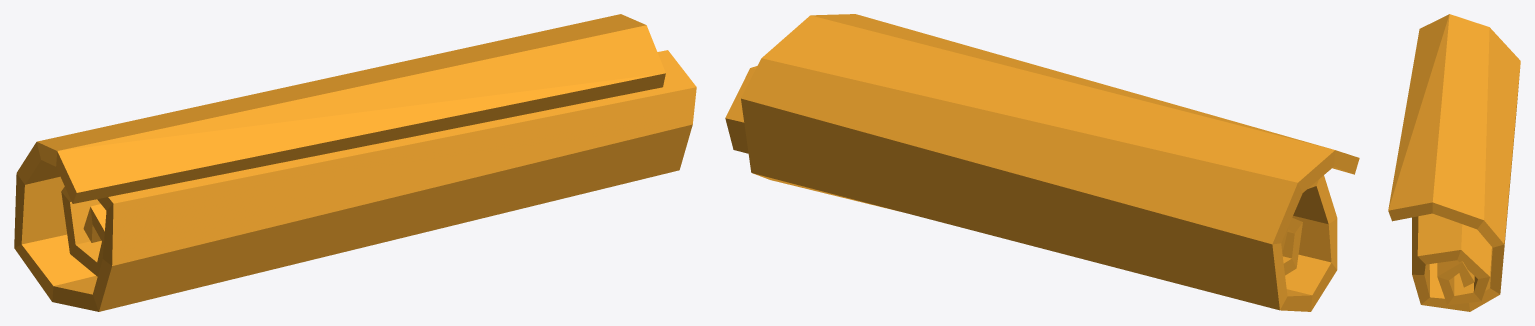
File: SM_Scroll_Sigle.fbx
3 renders of one model, left to right at view 1: azimuth 30°, elevation 25°; view 2: azimuth 150°, elevation 25°; view 3: azimuth 270°, elevation 25°, orthographic. The views are drawn at different scales.
Parts seen in each view (by area): view 1: scroll-sigle; view 2: scroll-sigle; view 3: scroll-sigle.
Part boxes in pixels (x1,y1,x2,y2): scroll-sigle: (14, 14, 696, 311); scroll-sigle: (725, 14, 1359, 311); scroll-sigle: (1388, 14, 1520, 311).
Size of the model in its own units: 0.2746 by 0.0688 by 0.0762.
